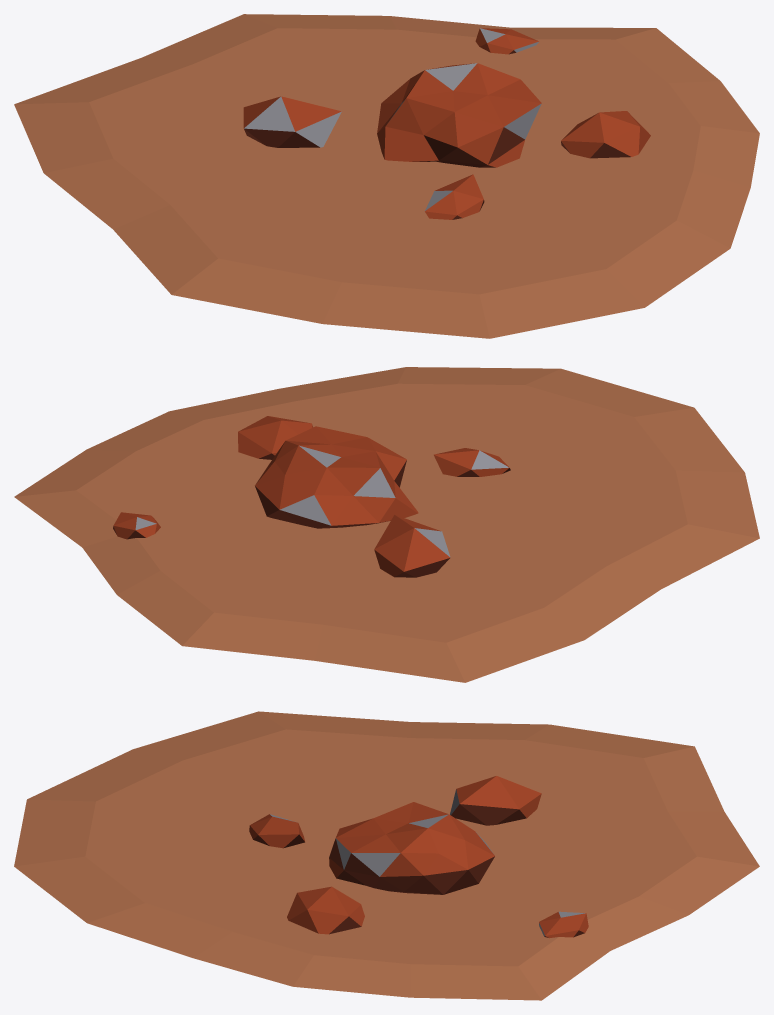
Rendered from ore_iron_depleted.glb.
3 views of the same model, one above another, from view 1: azimuth 30°, elevation 25°; view 2: azimuth 150°, elevation 25°; view 3: azimuth 270°, elevation 25° (orthographic). The views are drawn at different scales.
Parts seen in each view (by area): view 1: ore_iron_depleted; view 2: ore_iron_depleted; view 3: ore_iron_depleted.
Boxes of the visible parts, <box> form: ore_iron_depleted: <box>14,14,759,338</box>; ore_iron_depleted: <box>14,367,759,682</box>; ore_iron_depleted: <box>14,711,759,1000</box>.
Size of the model in its own units: 2.49 by 0.2551 by 2.72.
